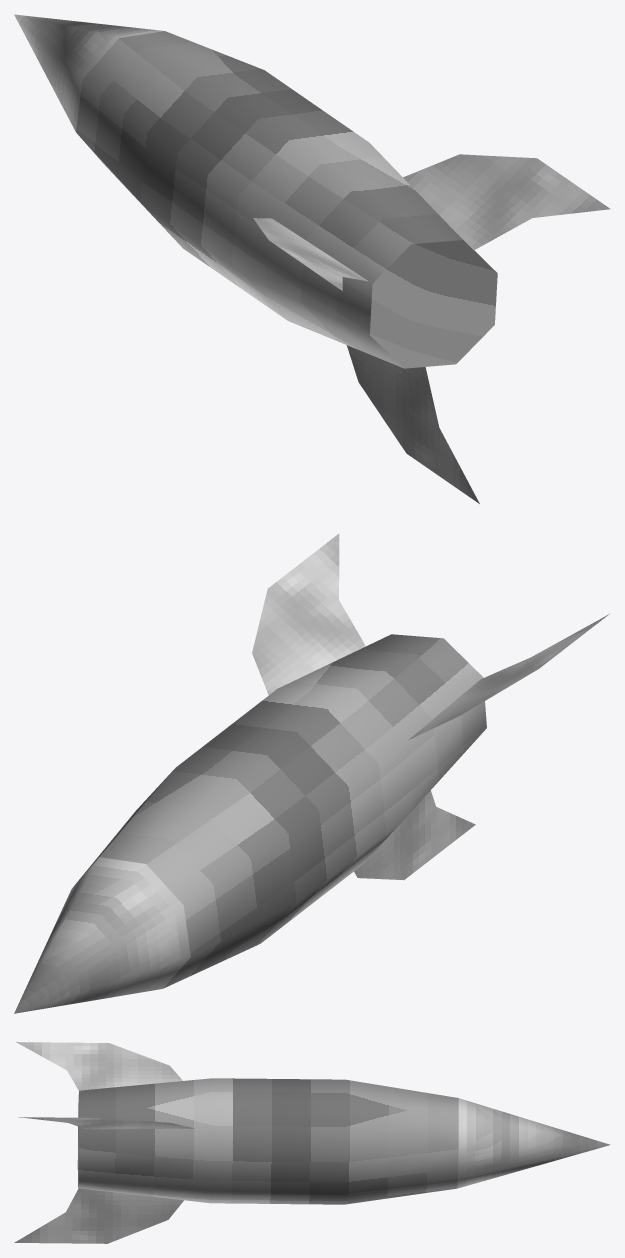
File: rocket.obj
3 views of the same model, one above another, from view 1: azimuth 30°, elevation 25°; view 2: azimuth 150°, elevation 25°; view 3: azimuth 270°, elevation 25° (orthographic). The views are drawn at different scales.
Parts seen in each view (by area): view 1: Duplicate02, Duplicate04, Duplicate05, Cylinder03, Duplicate03; view 2: Duplicate02, Cylinder03, Duplicate04, Duplicate05, Duplicate03; view 3: Duplicate02, Cylinder03, Duplicate05, Duplicate03, Duplicate04.
Boxes of the visible parts, x1,y1,x2,y2 form: Duplicate02: [76, 31, 497, 368]; Duplicate04: [403, 154, 610, 250]; Duplicate05: [346, 345, 479, 503]; Cylinder03: [14, 14, 163, 131]; Duplicate03: [253, 218, 368, 290]; Duplicate02: [74, 634, 486, 988]; Cylinder03: [14, 857, 190, 1013]; Duplicate04: [252, 533, 365, 695]; Duplicate05: [354, 790, 475, 880]; Duplicate03: [409, 614, 609, 739]; Duplicate02: [77, 1078, 458, 1204]; Cylinder03: [457, 1098, 610, 1188]; Duplicate05: [14, 1188, 183, 1243]; Duplicate03: [16, 1042, 182, 1090]; Duplicate04: [18, 1117, 194, 1129].
Bounding box in the file's own units: 10.11 × 9.37 × 29.99.
